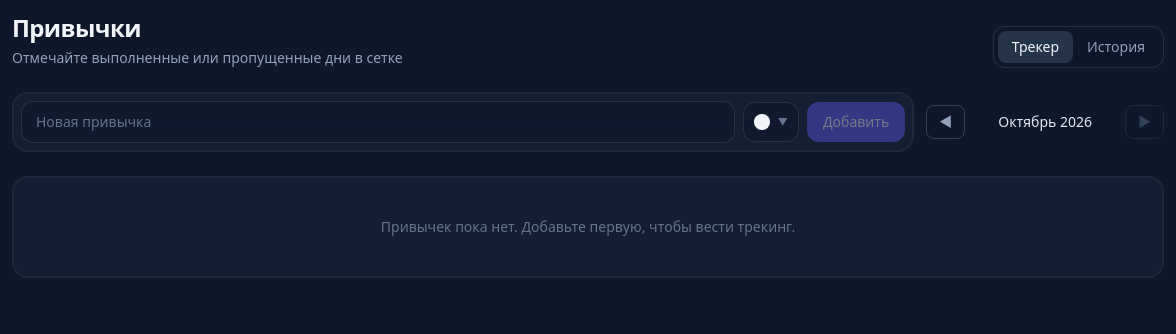
Test: HabitsPage › shows the empty state and creates a habit
The width and height of the screenshot is (1176, 334).
Expected: the text "Привычек пока нет. Добавьте первую, чтобы вести трекинг." is shown, [12, 176, 1164, 278]
Type "  Медитация  " into the field named "Название новой привычки". click: (378, 122)
box: [21, 101, 735, 143]
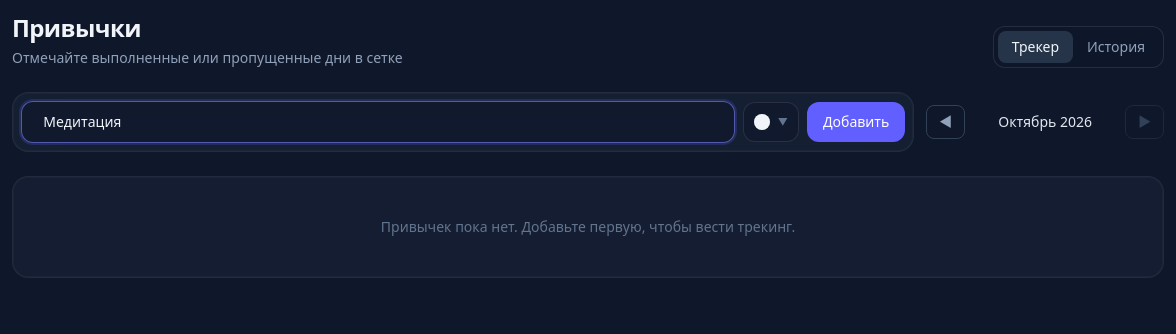
Click the button "Добавить". click: (856, 122)
box: [807, 102, 905, 142]
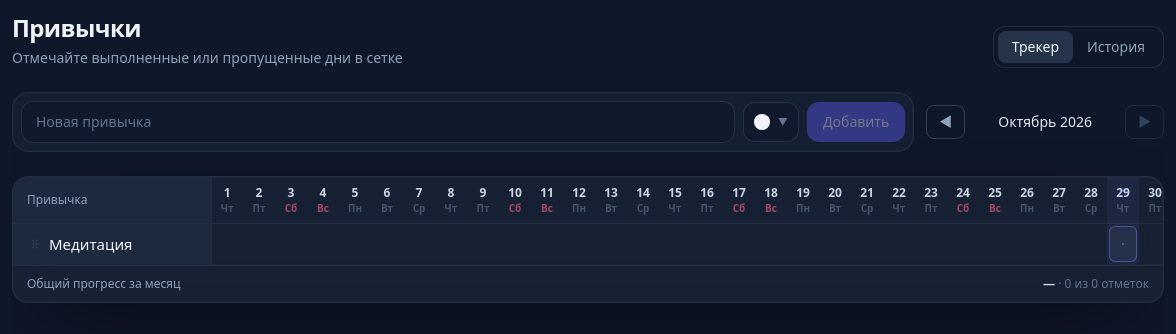
Result: the text "Медитация" is shown at [49, 234, 132, 255]
Result: the field named "Название новой привычки" is empty at [21, 101, 735, 143]
Result: the text "Привычек пока нет. Добавьте первую, чтобы вести трекинг." is gone
